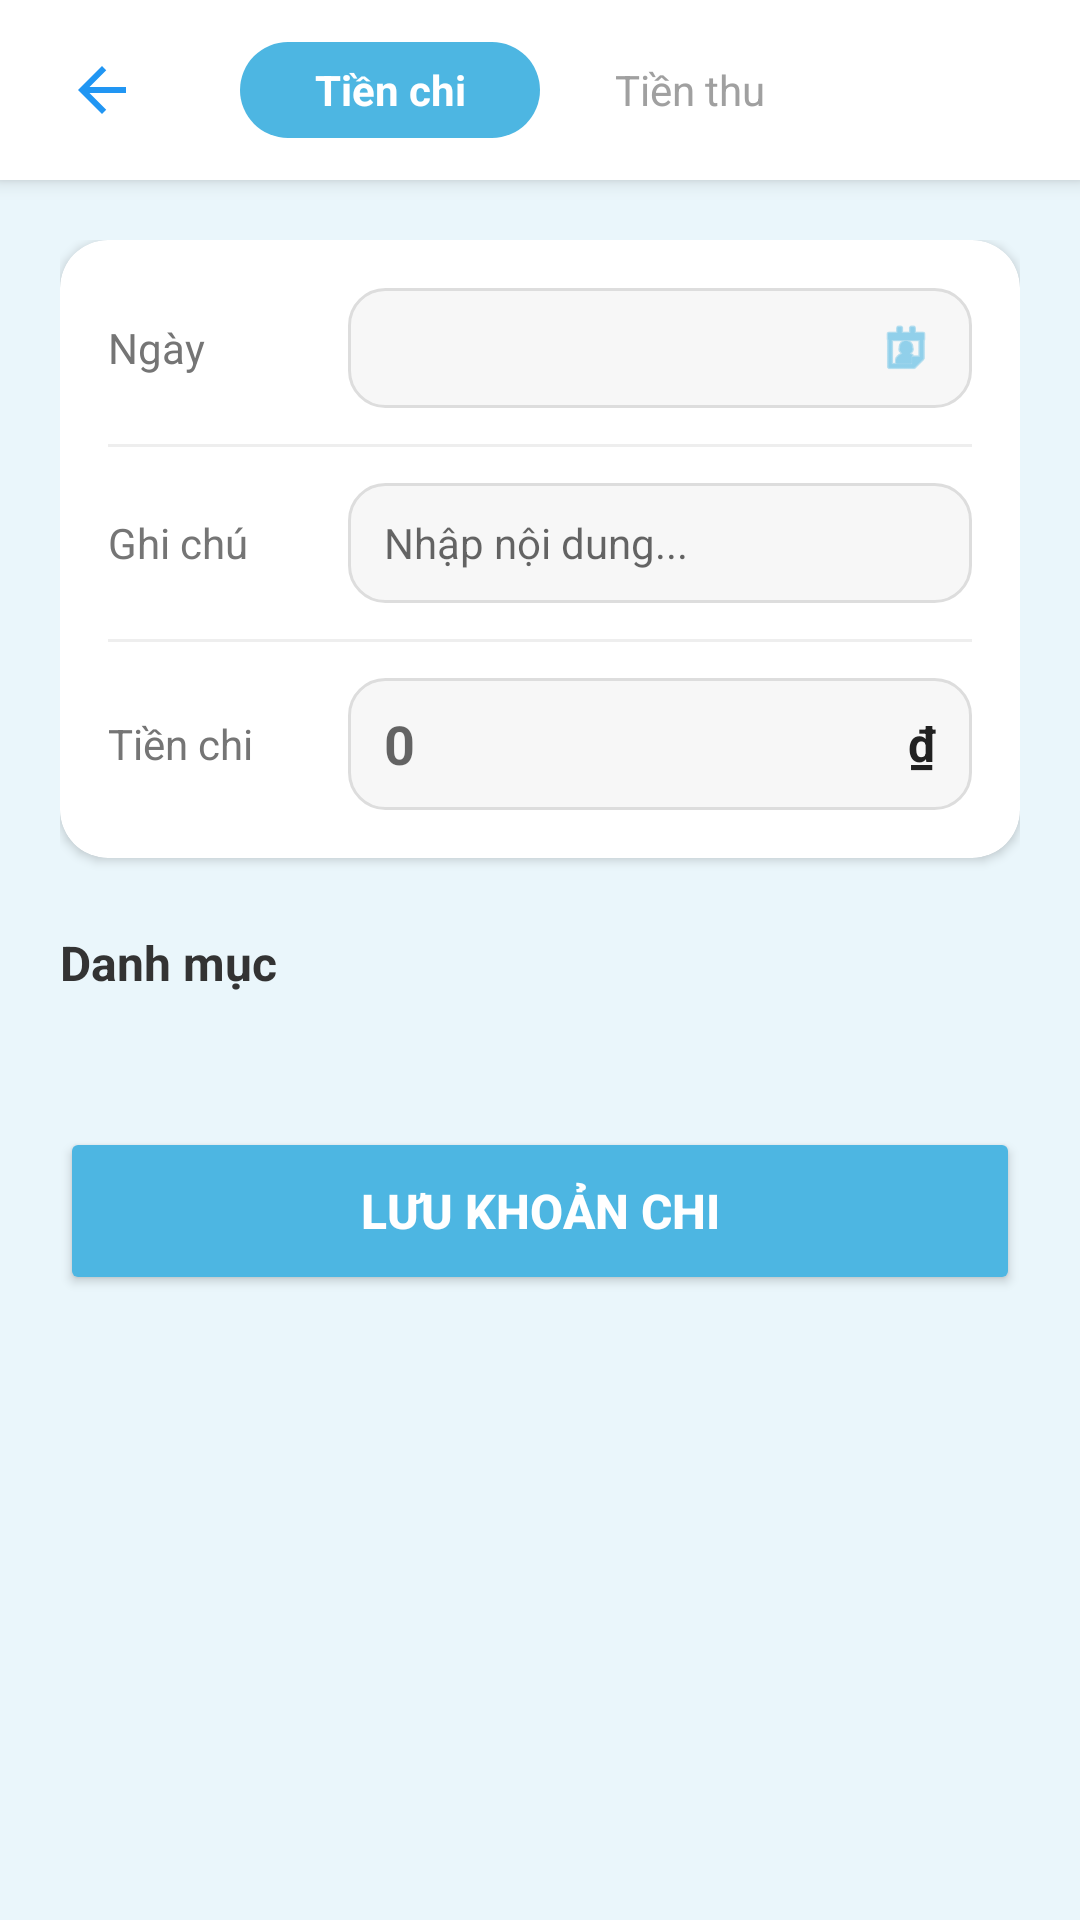

Where icons sit on this 1080*1920 app screen, as (x1, y1, x2, y2):
back: (78, 66, 126, 114)
calendar: (887, 325, 925, 369)
